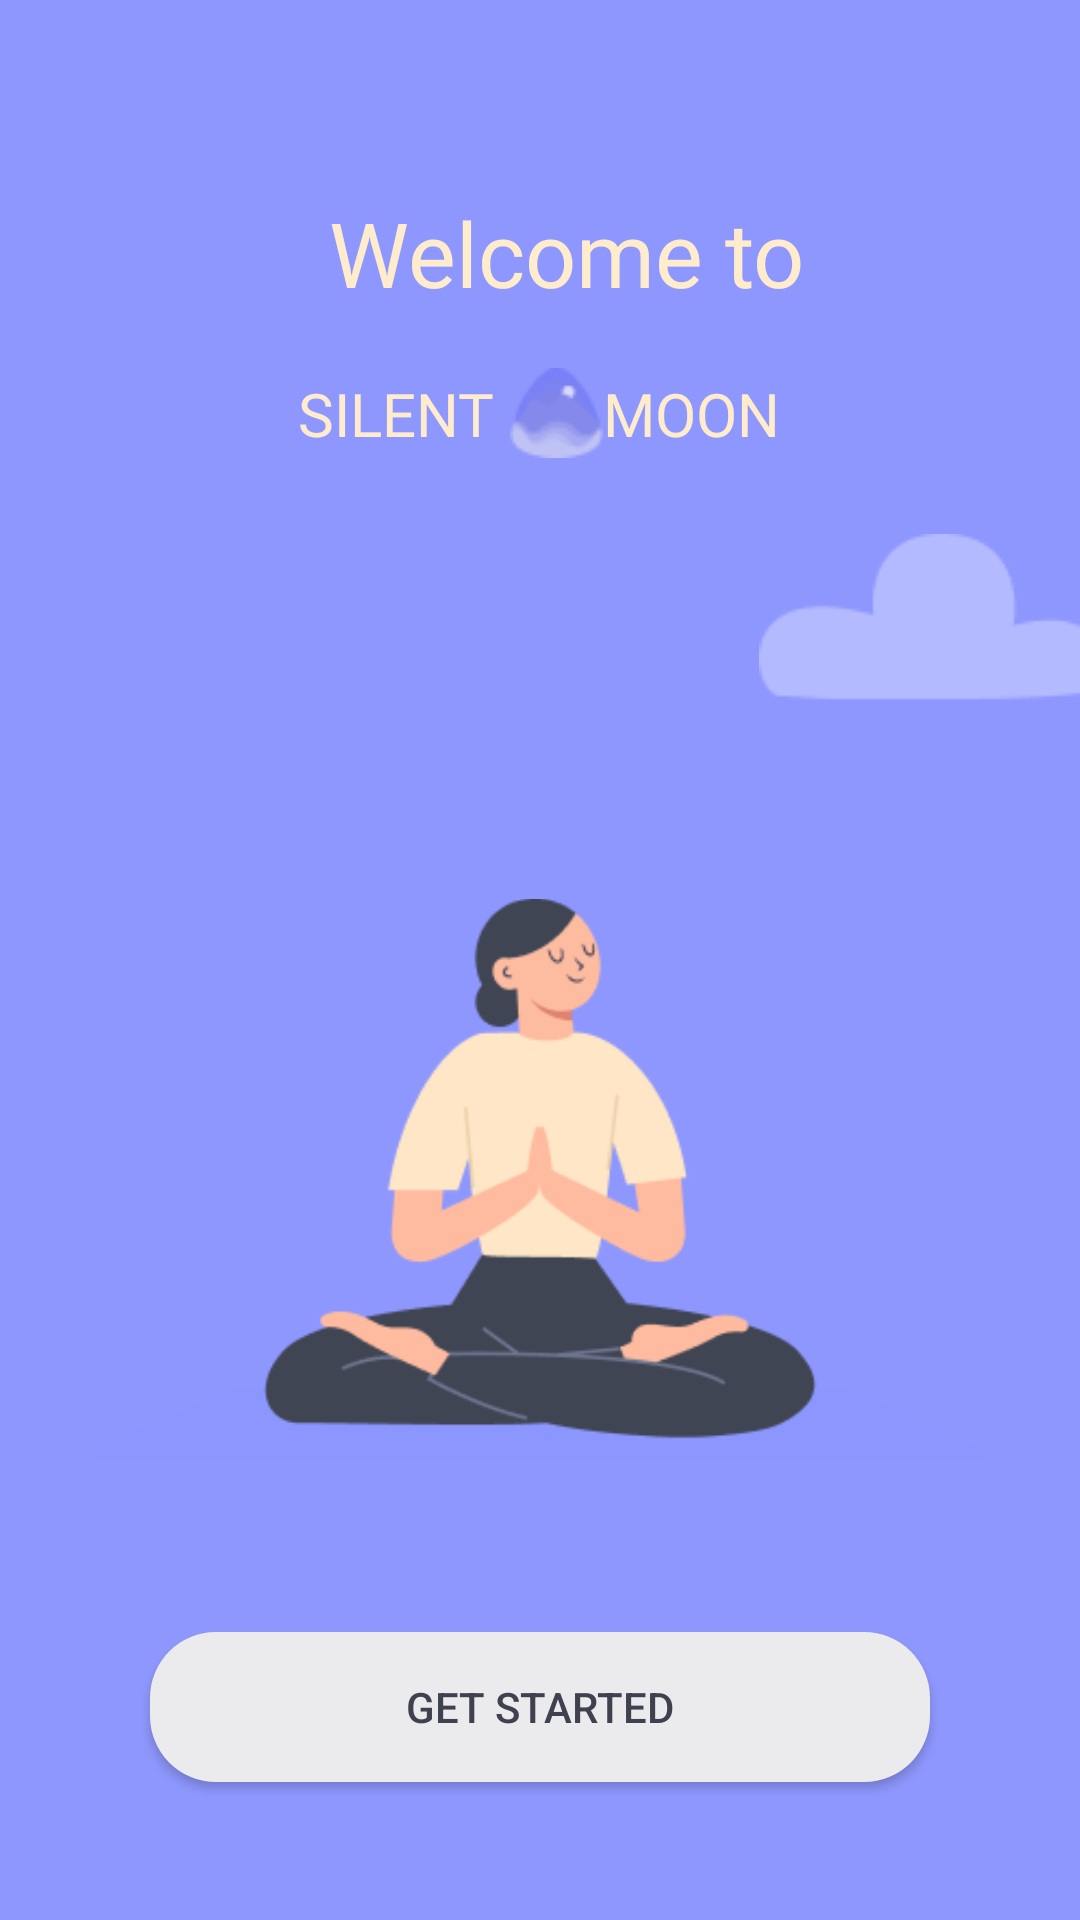

Screen size 1080 × 1920. Icon name, then its center in pixels as (x=x, y=y):
cloud: (x=919, y=616)
